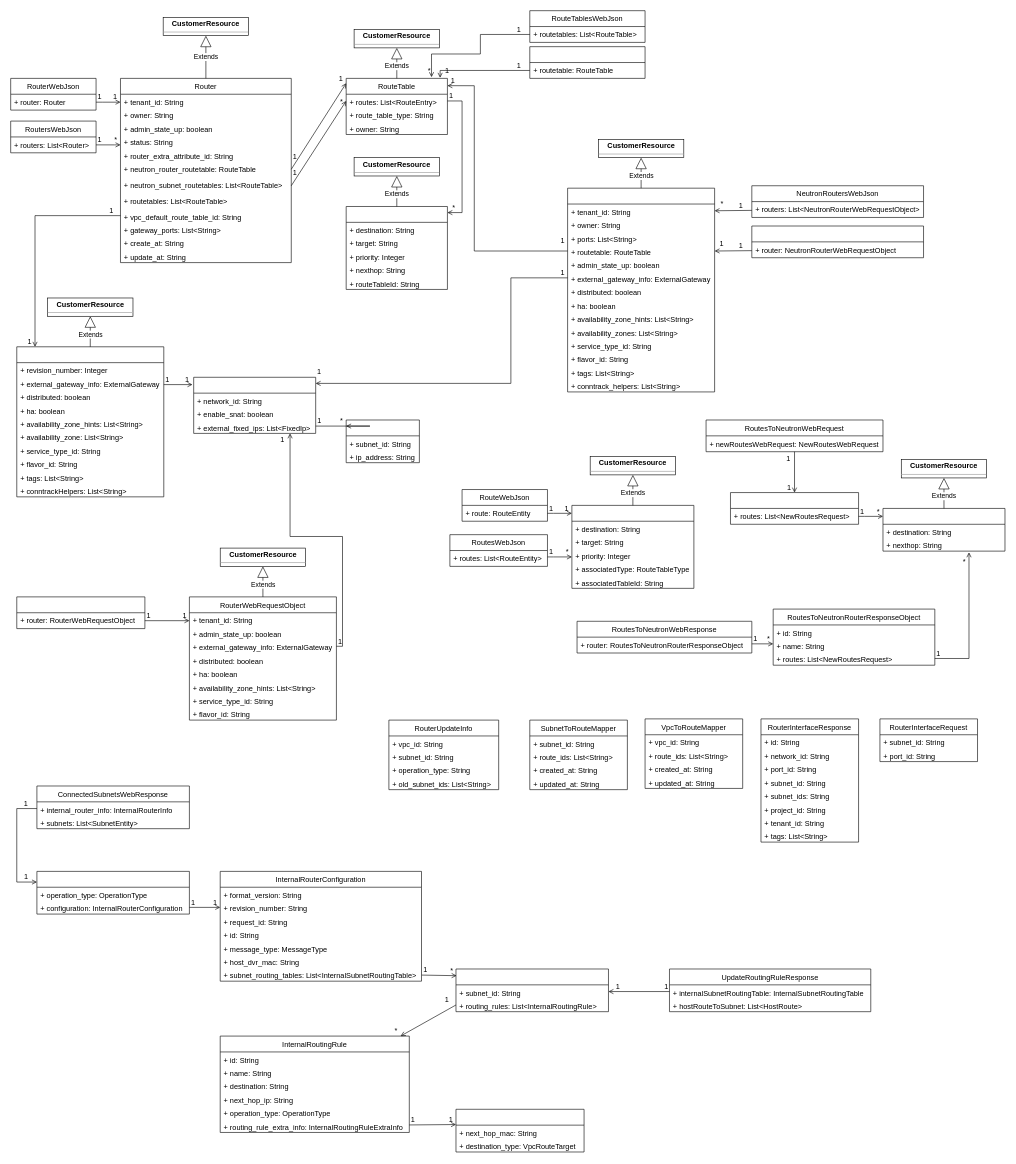
Image size: 1016x1164. Some labels were removed from this diagram. The shapes that lost their labels are listed below. From the top down, each one's box as (x1, y1, x2, y2) in pixels, then its label:
(529, 46, 645, 78): RouteTableWebJson
(346, 206, 447, 289): RouteEntry
(751, 225, 924, 258): NeutronRouterWebJson
(567, 188, 715, 392): NeutronRouterWebRequestObject
(16, 346, 164, 497): RouterExtraAttribute
(193, 377, 316, 433): ExternalGateway
(346, 419, 419, 463): FixiedIp
(730, 492, 859, 524): NewRoutesWebRequest
(571, 505, 694, 588): RouteEntity
(882, 508, 1005, 551): NewRoutesRequest
(16, 596, 145, 629): RouterWebRequestJson
(36, 871, 189, 914): InternalRouterInfo
(455, 968, 608, 1012): InternalSubnetRoutingTable
(455, 1109, 584, 1152): InternalRoutingRuleExtraInfo
